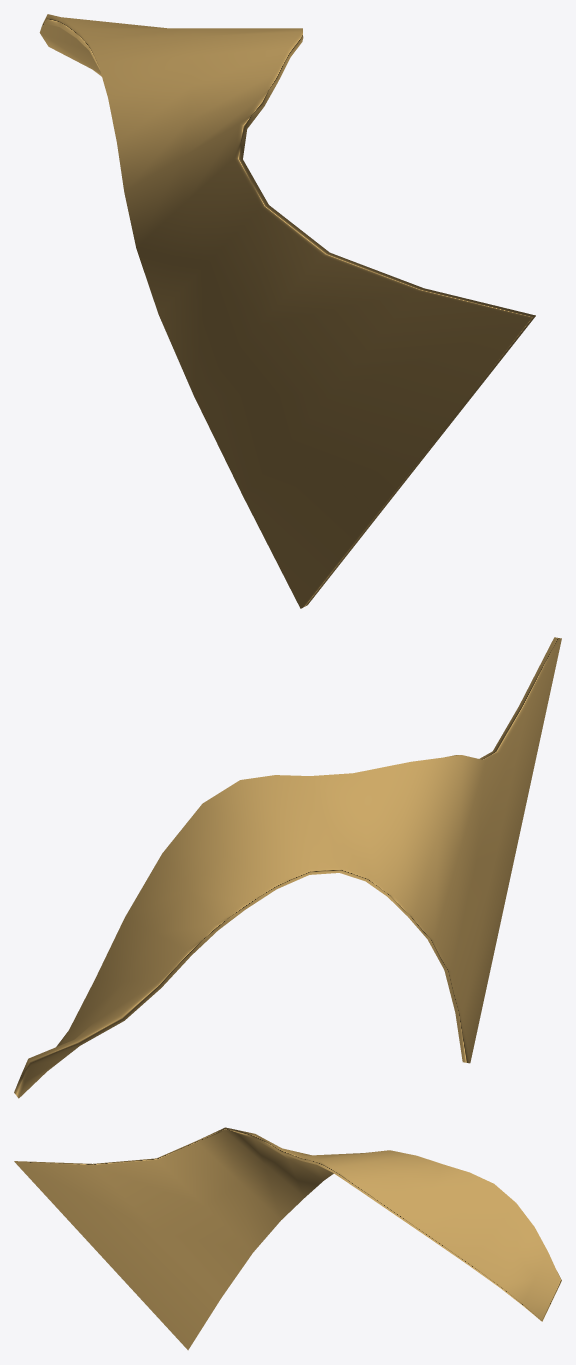
The picture shows the model from 3 angles, top to bottom: view 1: azimuth 30°, elevation 25°; view 2: azimuth 150°, elevation 25°; view 3: azimuth 270°, elevation 25°; orthographic projection. The views are drawn at different scales.
Visible parts, largest first — view 1: 左侧骶髂骨间韧带; view 2: 左侧骶髂骨间韧带; view 3: 左侧骶髂骨间韧带.
Part boxes in pixels (x1,y1,x2,y2): 左侧骶髂骨间韧带: [39, 14, 535, 608]; 左侧骶髂骨间韧带: [14, 637, 561, 1098]; 左侧骶髂骨间韧带: [14, 1127, 561, 1350].
Bounding box in the file's own units: 0.0232 × 0.0349 × 0.0797.
